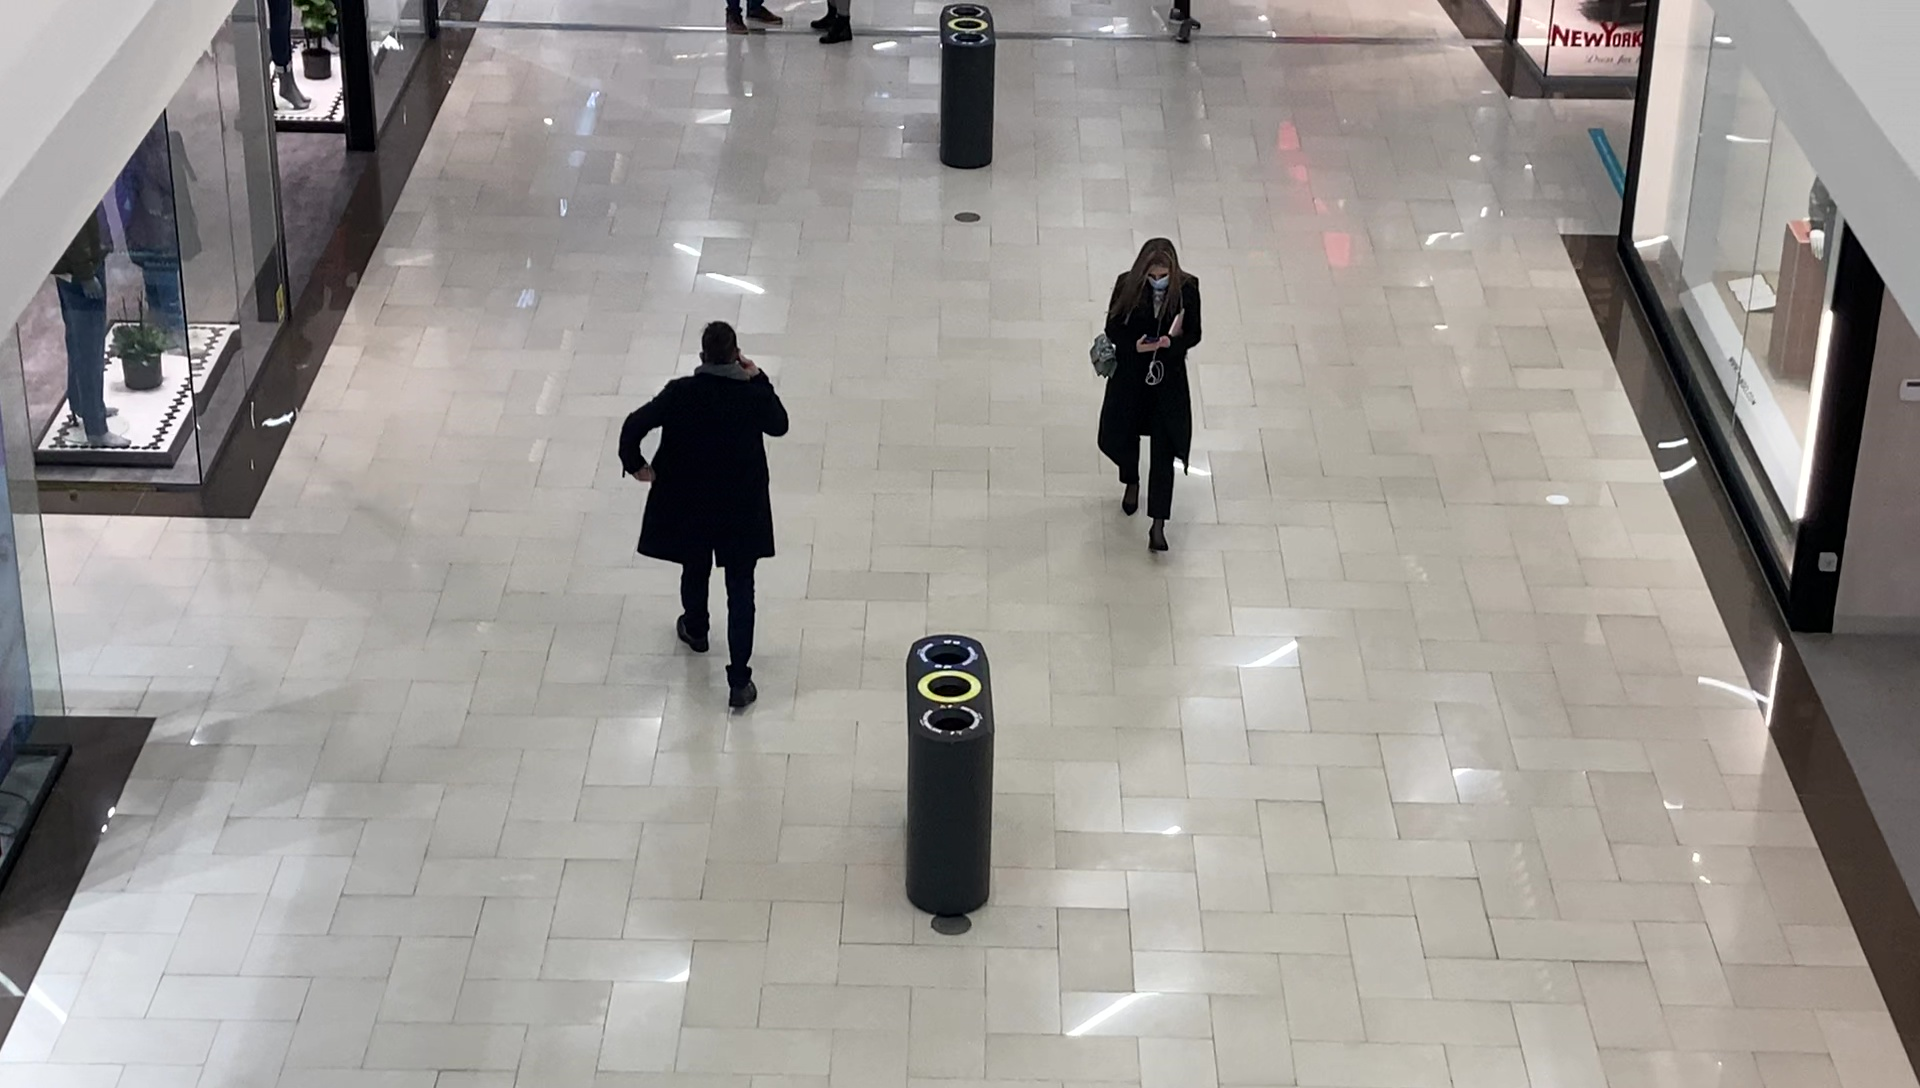person: (619, 322, 791, 714), (1089, 238, 1206, 556)
